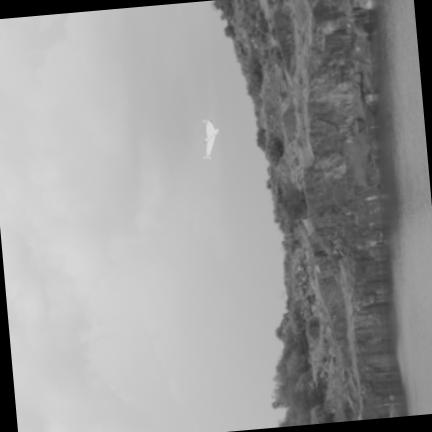Shahed: (203, 119, 219, 158)
